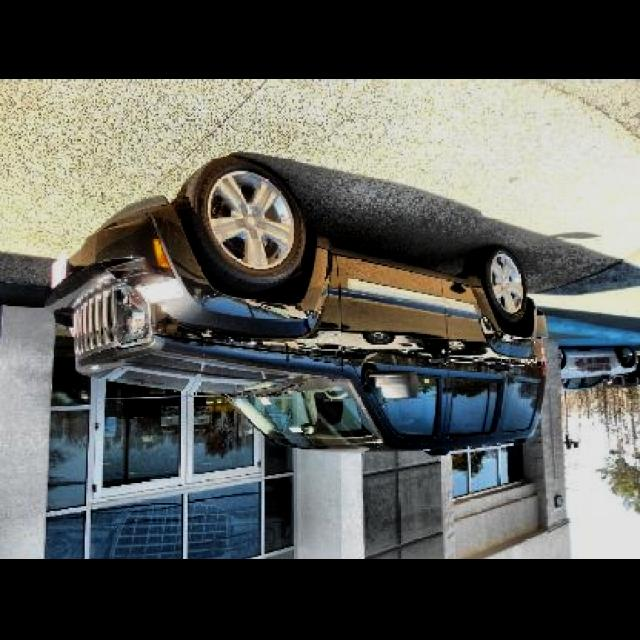black: (46, 182, 640, 474)
